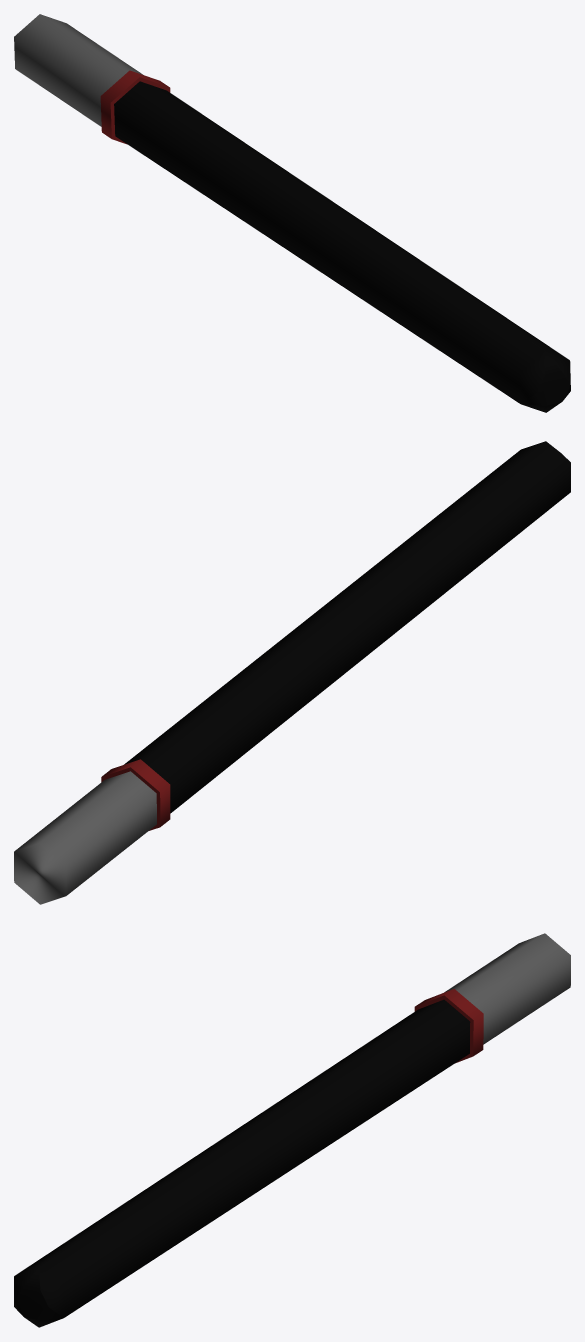
The model's file is dubinka.fbx.
The picture shows the model from 3 angles, top to bottom: view 1: azimuth 30°, elevation 25°; view 2: azimuth 150°, elevation 25°; view 3: azimuth 330°, elevation 25°; orthographic projection.
Visible parts, largest first — view 1: dubinka_R_inhand1; view 2: dubinka_R_inhand1; view 3: dubinka_R_inhand1.
Part boxes in pixels (bbox=[...]): dubinka_R_inhand1: bbox=[14, 14, 570, 412]; dubinka_R_inhand1: bbox=[14, 441, 570, 904]; dubinka_R_inhand1: bbox=[14, 933, 570, 1327].
Bounding box in the file's own units: 5.6 × 8.75 × 83.42.
